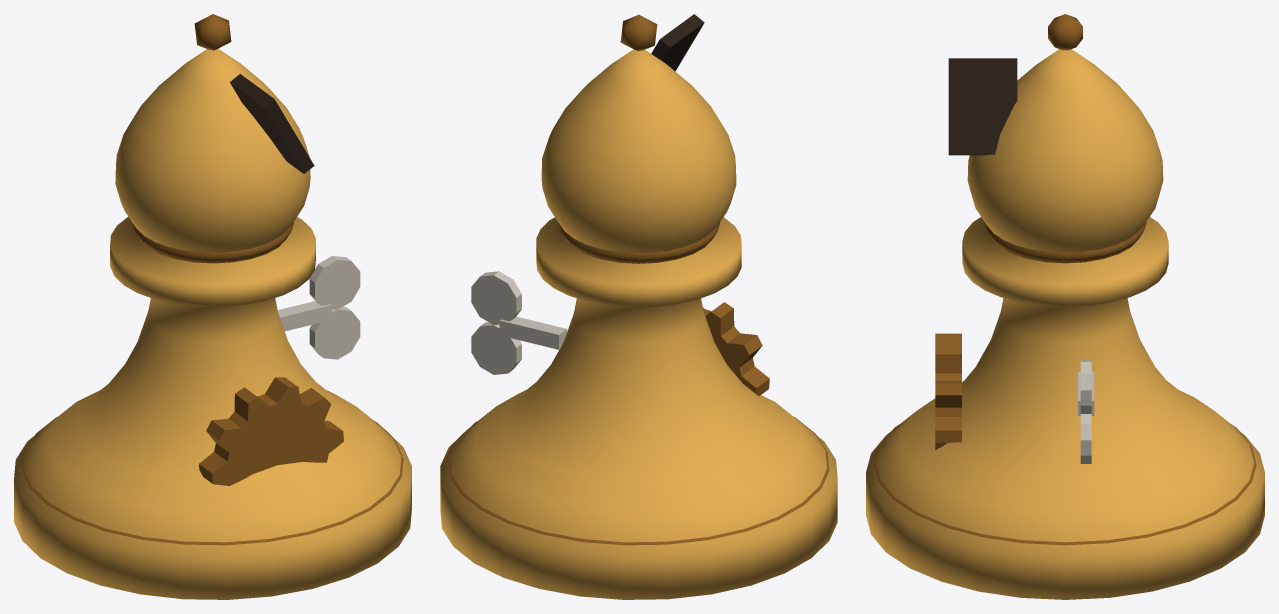
The model's file is bishop.glb.
3 views of the same model, side by side, from view 1: azimuth 30°, elevation 25°; view 2: azimuth 150°, elevation 25°; view 3: azimuth 270°, elevation 25° (orthographic).
Parts seen in each view (by area): view 1: bishop_body, bishop_gear, bishop_key, bishop_trim, bishop_slit, bishop_tip; view 2: bishop_body, bishop_key, bishop_trim, bishop_gear, bishop_slit, bishop_tip; view 3: bishop_body, bishop_slit, bishop_trim, bishop_gear, bishop_key, bishop_tip.
Boxes of the visible parts, x1,y1,x2,y2 form: bishop_body: (14, 48, 411, 599); bishop_gear: (199, 377, 343, 485); bishop_key: (277, 256, 360, 359); bishop_trim: (22, 222, 403, 545); bishop_slit: (230, 74, 314, 173); bishop_tip: (194, 14, 231, 50); bishop_body: (440, 49, 837, 599); bishop_key: (471, 271, 567, 374); bishop_trim: (448, 222, 829, 545); bishop_gear: (702, 302, 769, 395); bishop_slit: (651, 14, 704, 71); bishop_tip: (620, 15, 657, 51); bishop_body: (866, 49, 1264, 599); bishop_slit: (948, 58, 1017, 155); bishop_trim: (874, 222, 1256, 545); bishop_gear: (935, 333, 961, 449); bishop_key: (1078, 360, 1094, 463); bishop_tip: (1048, 14, 1082, 50).
Size of the model in its own units: 0.58 by 0.805 by 0.58.
